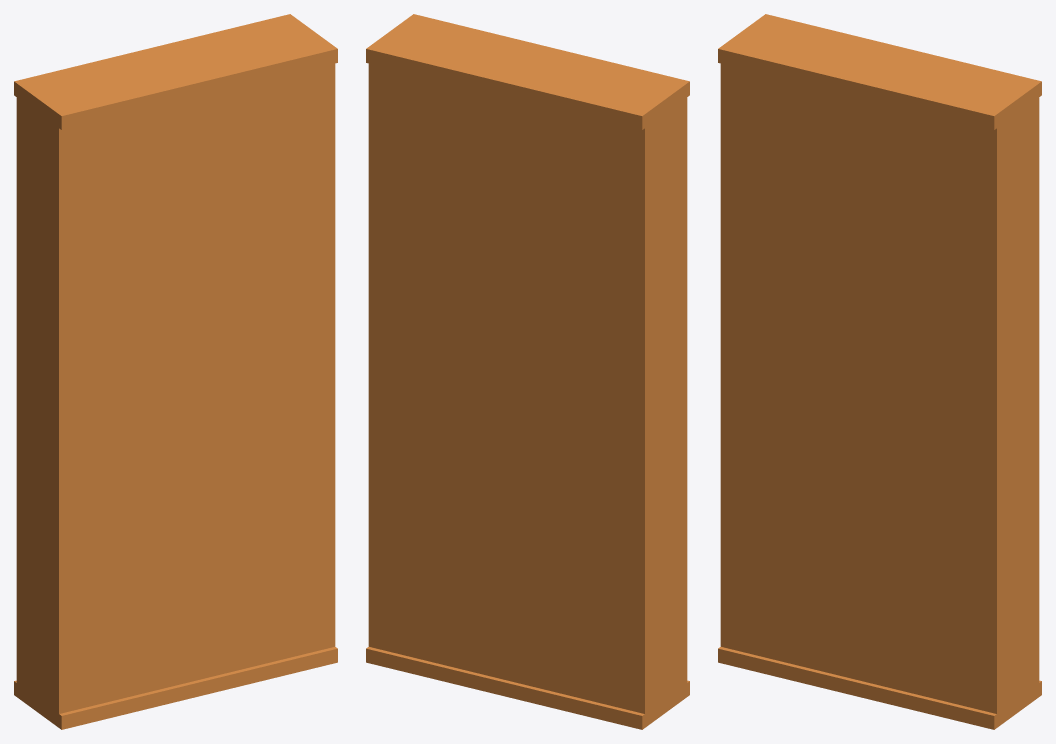
File: MUR_cloison.FBX
3 renders of one model, left to right at view 1: azimuth 30°, elevation 25°; view 2: azimuth 150°, elevation 25°; view 3: azimuth 330°, elevation 25°, orthographic.
Parts seen in each view (by area): view 1: MUR_cloison; view 2: MUR_cloison; view 3: MUR_cloison.
Boxes of the visible parts, left/top/right/bottom form: MUR_cloison: left=14, top=14, right=337, bottom=729; MUR_cloison: left=366, top=14, right=689, bottom=729; MUR_cloison: left=718, top=14, right=1041, bottom=729.
Bounding box in the file's own units: 48.21 × 102 × 14.39.
